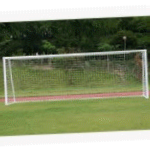goals: (1, 48, 150, 108)
